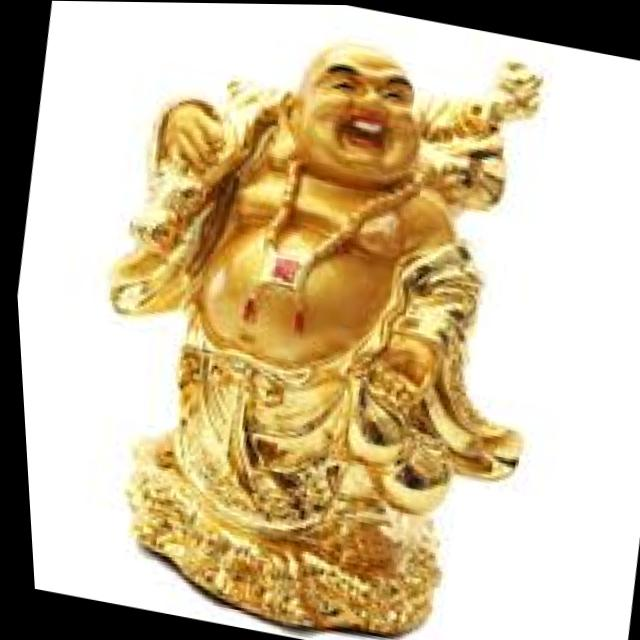Smiling Buddha: (84, 1, 544, 593)
